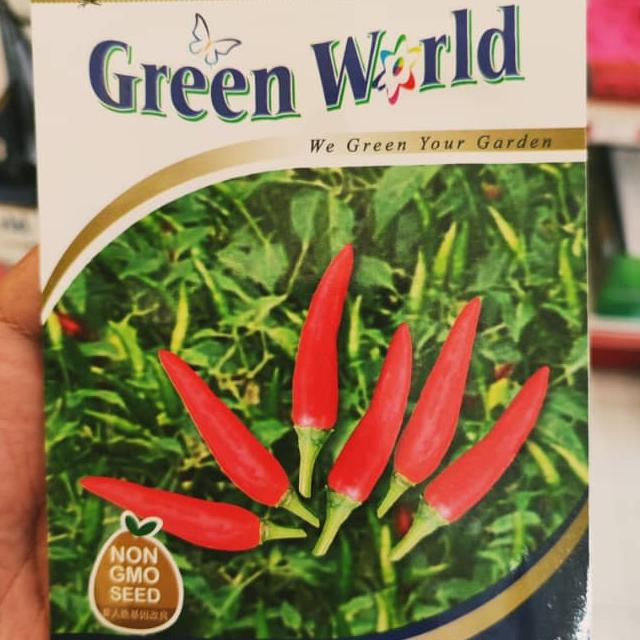chili_pepper: (313, 324, 412, 556), (160, 351, 289, 508), (292, 245, 353, 498)
